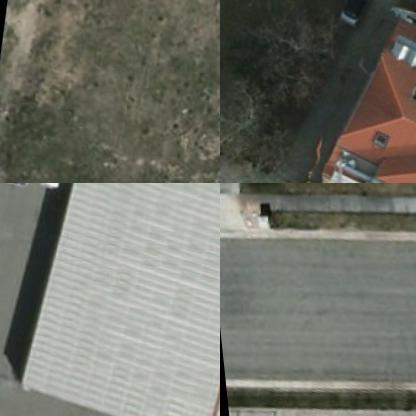car: (333, 0, 385, 30)
